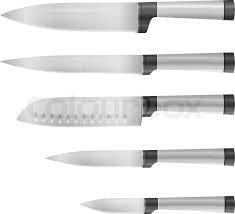Knife: (0, 0, 234, 33), (16, 93, 234, 127), (0, 51, 234, 74), (45, 147, 234, 168), (79, 195, 234, 213)
